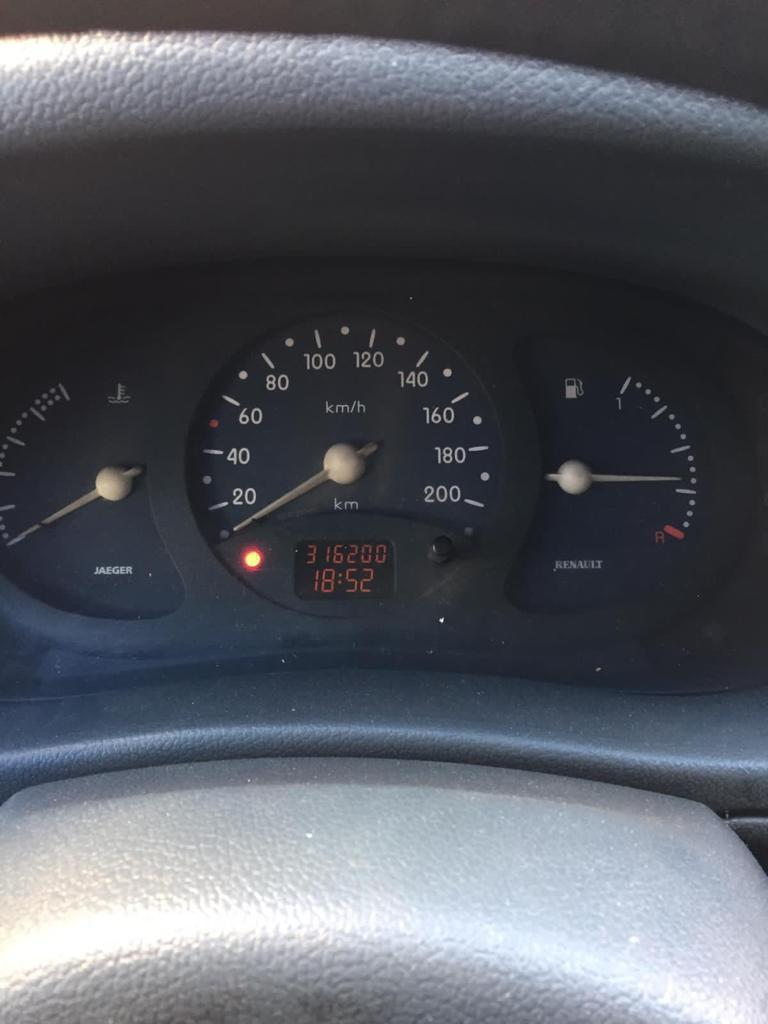0: (360, 544, 372, 563), (375, 544, 386, 563)
1: (313, 568, 319, 591), (325, 545, 330, 563)
2: (359, 567, 373, 592), (346, 544, 358, 563)
3: (306, 544, 316, 564)
5: (345, 568, 357, 592)
6: (332, 544, 344, 564)
8: (321, 568, 335, 592)
X: (337, 572, 342, 584)
odometer: (293, 538, 396, 601)
